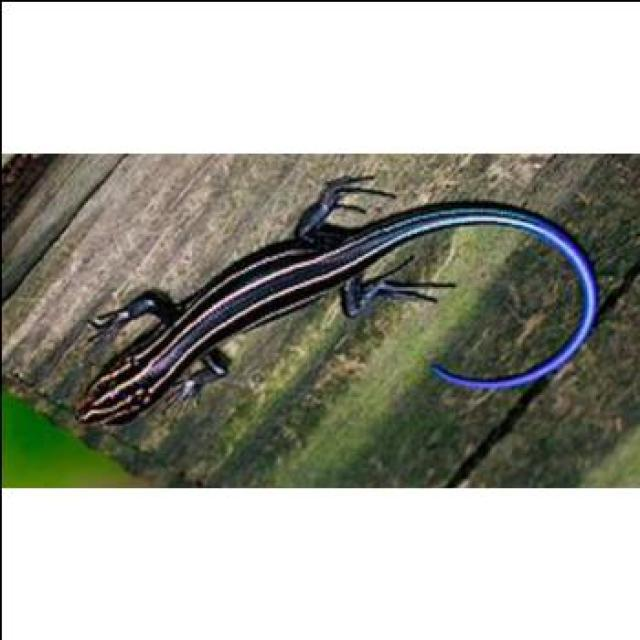Lizard: (76, 178, 598, 414)
